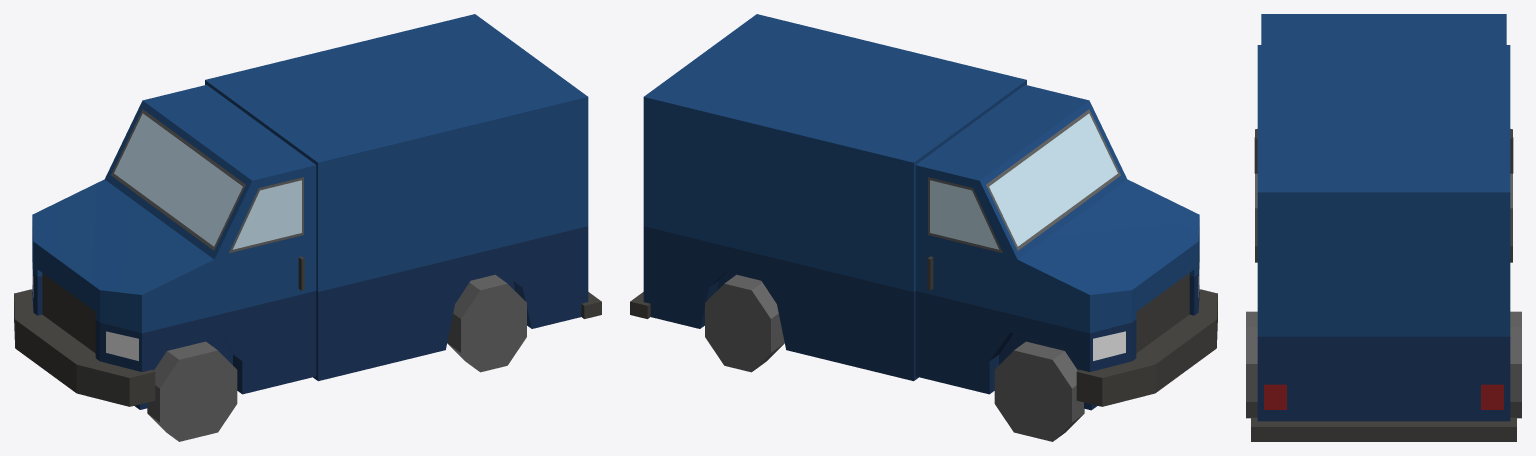
Rendered from Truck_3.fbx.
The picture shows the model from 3 angles, left to right: view 1: azimuth 30°, elevation 25°; view 2: azimuth 150°, elevation 25°; view 3: azimuth 270°, elevation 25°; orthographic projection. The views are drawn at different scales.
Visible parts, largest first — view 1: Truck_3; view 2: Truck_3; view 3: Truck_3.
Part boxes in pixels (x1,y1,x2,y2): Truck_3: [14, 14, 601, 441]; Truck_3: [630, 14, 1217, 441]; Truck_3: [1246, 14, 1521, 441].
Bounding box in the file's own units: 7.79 × 3.66 × 3.36.
1 material, 1 textured.
